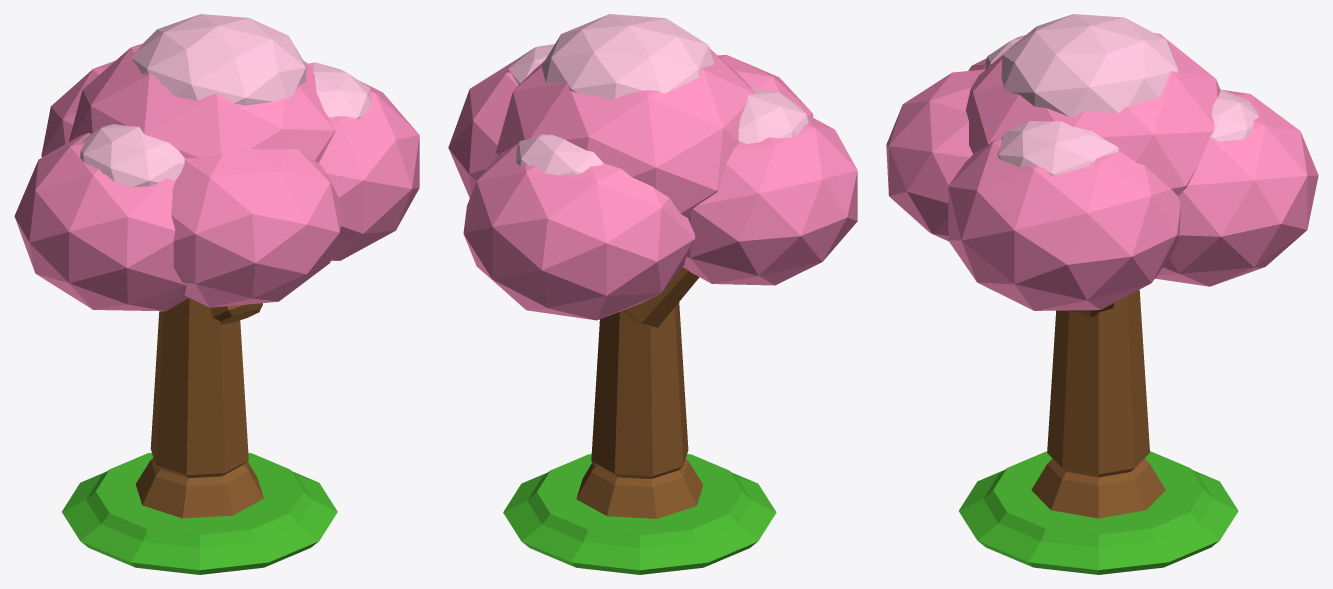
Rendered from Prop_sakura_schoolyard_CherryTree.glb.
The picture shows the model from 3 angles, left to right: view 1: azimuth 30°, elevation 25°; view 2: azimuth 150°, elevation 25°; view 3: azimuth 270°, elevation 25°; orthographic projection. The views are drawn at different scales.
Visible parts, largest first — view 1: Sakura_FF8FC0, Bark_8A5A2B, Grass_46B82C, SakuraLight_FFC4DD; view 2: Sakura_FF8FC0, Bark_8A5A2B, Grass_46B82C, SakuraLight_FFC4DD; view 3: Sakura_FF8FC0, Bark_8A5A2B, SakuraLight_FFC4DD, Grass_46B82C.
Boxes of the visible parts, box(x1,y1,x2,y2) form: Sakura_FF8FC0: box(14, 43, 419, 311); Bark_8A5A2B: box(135, 298, 263, 518); Grass_46B82C: box(62, 452, 337, 574); SakuraLight_FFC4DD: box(80, 14, 371, 186); Sakura_FF8FC0: box(448, 49, 857, 320); Bark_8A5A2B: box(576, 267, 703, 518); Grass_46B82C: box(503, 454, 776, 574); SakuraLight_FFC4DD: box(507, 14, 810, 175); Sakura_FF8FC0: box(886, 33, 1318, 310); Bark_8A5A2B: box(1031, 289, 1165, 518); SakuraLight_FFC4DD: box(985, 14, 1258, 175); Grass_46B82C: box(959, 451, 1238, 574).
Bounding box in the file's own units: 10.9 × 13.43 × 10.5.
